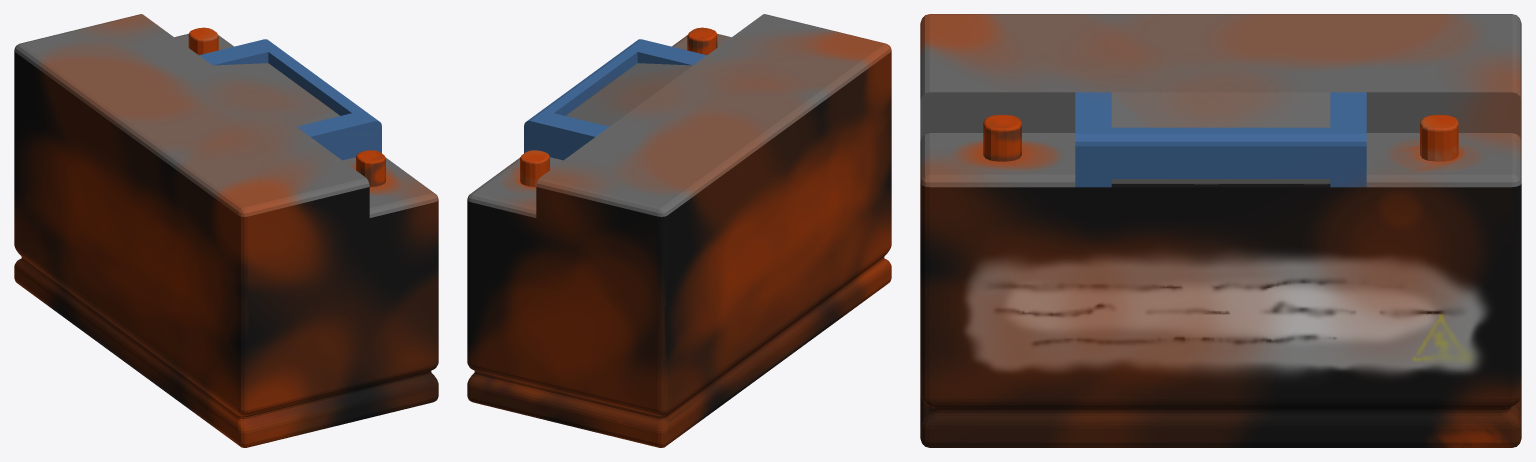
Rendered from BatteryArtifact.fbx.
The picture shows the model from 3 angles, left to right: view 1: azimuth 30°, elevation 25°; view 2: azimuth 150°, elevation 25°; view 3: azimuth 270°, elevation 25°; orthographic projection. The views are drawn at different scales.
Visible parts, largest first — view 1: Battery; view 2: Battery; view 3: Battery.
Part boxes in pixels (x1,y1,x2,y2): Battery: [14, 14, 438, 447]; Battery: [467, 14, 891, 447]; Battery: [920, 14, 1521, 447].
Size of the model in its own units: 400 by 230 by 200.
